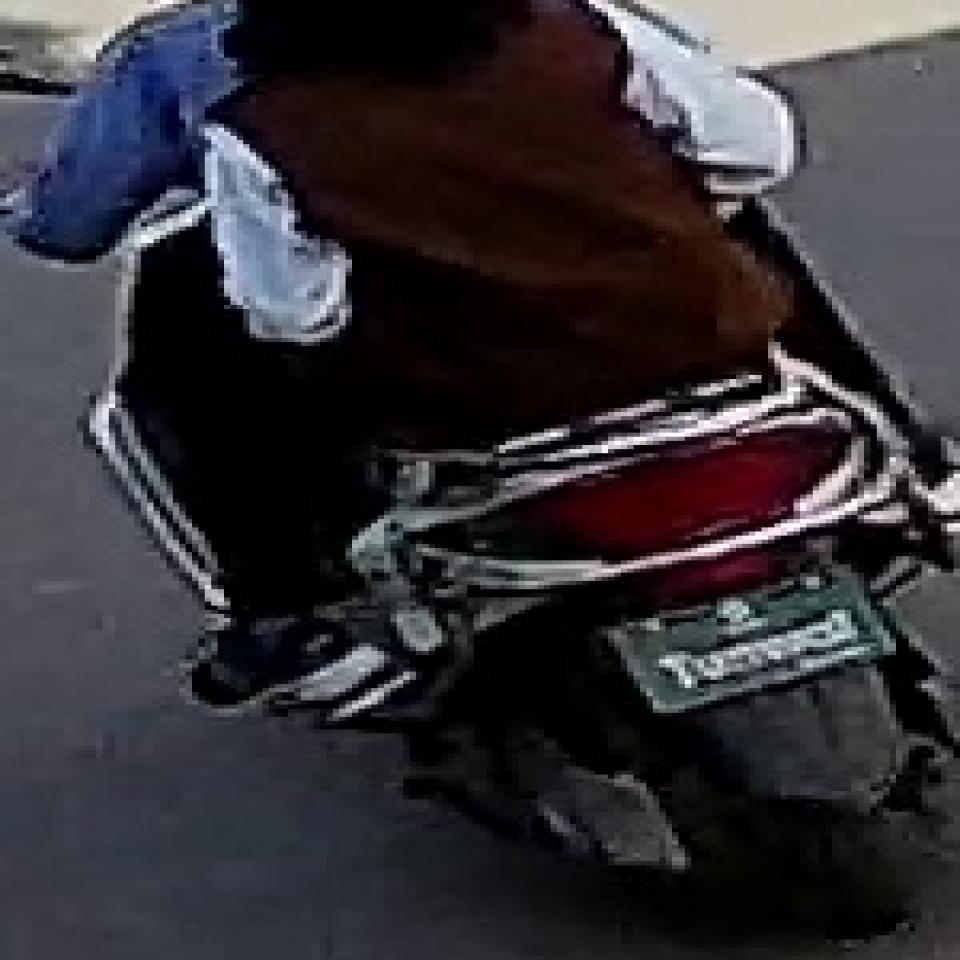tail_light: (506, 446, 852, 562)
